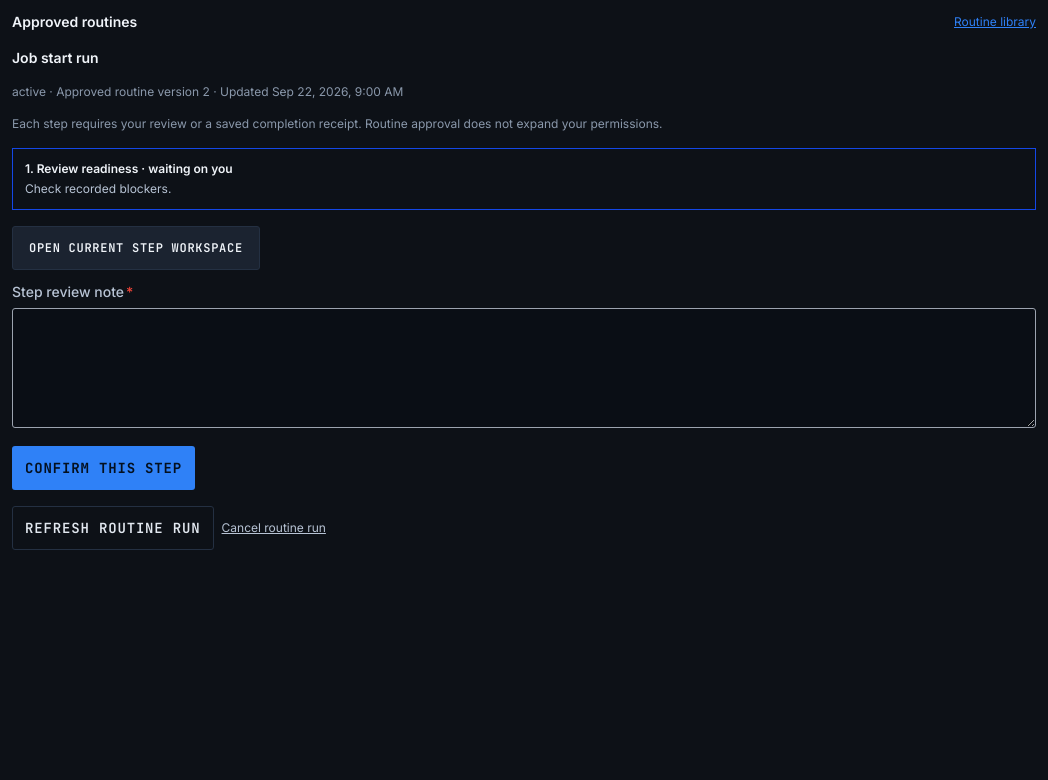
Test: blocks stale version writes until refreshing the saved run
Check: the heading "Job start run" is shown, box [12, 49, 99, 66]
Type "Reviewed source." into the text box labelled "Step review note*".
click(524, 368); type("Reviewed source.")  # box [12, 308, 1036, 428]
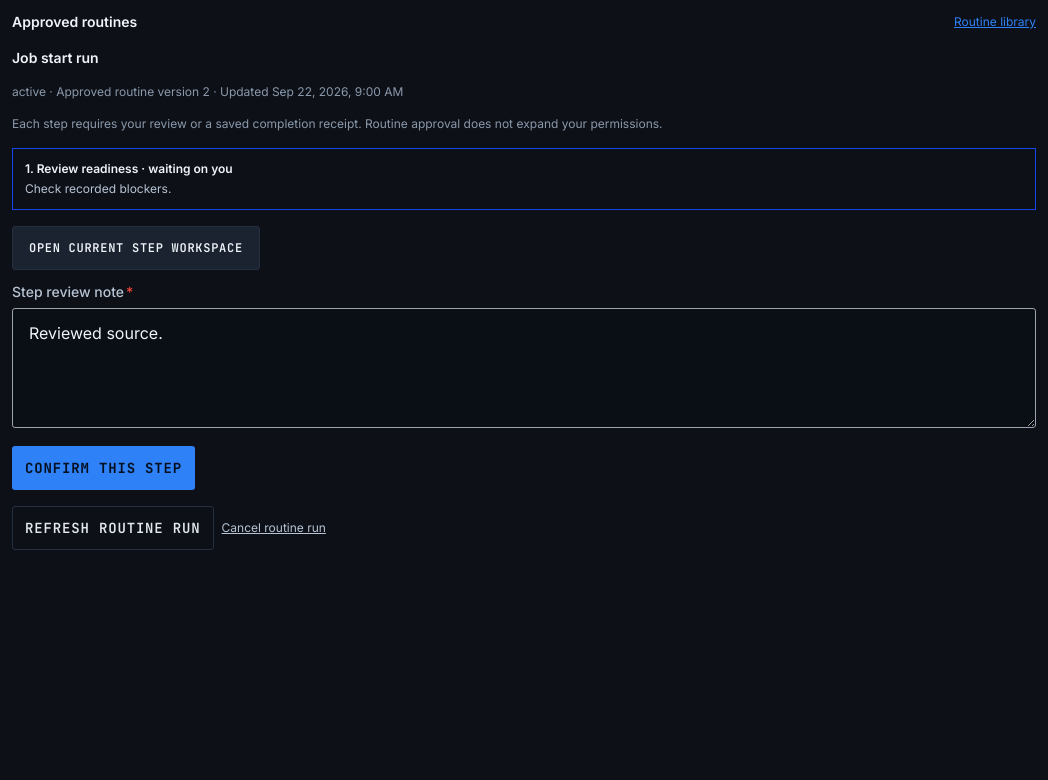
Click the button "Confirm this step".
click(104, 468)  # box [12, 446, 195, 490]
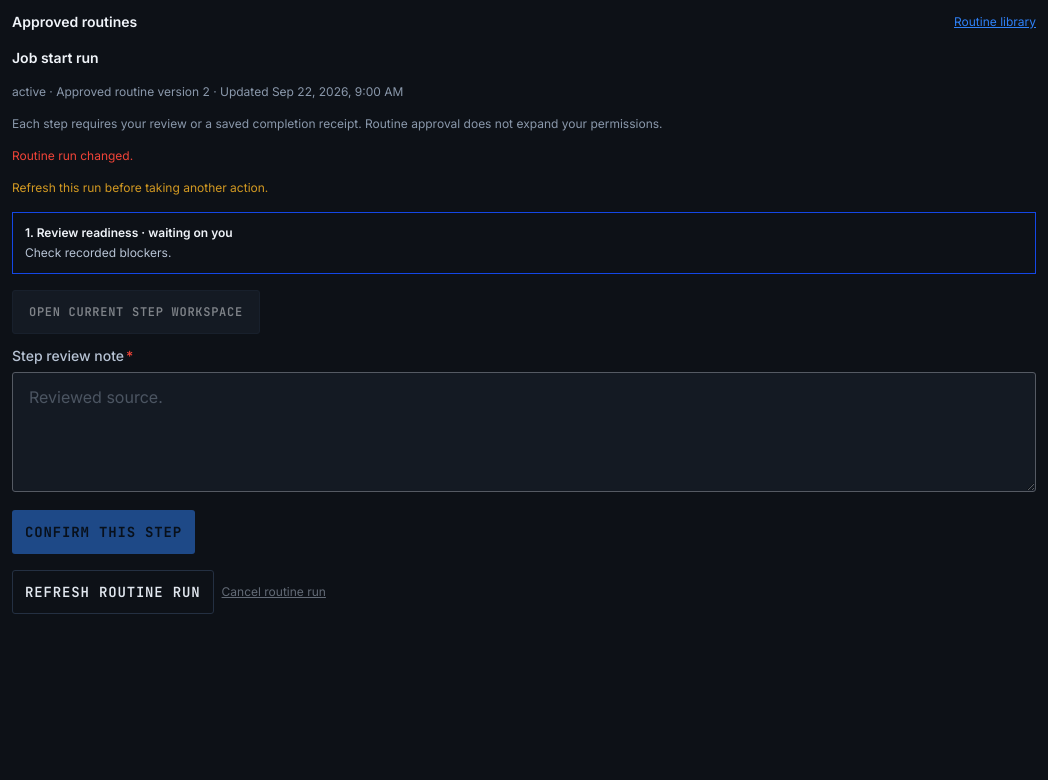
Check: the text "Routine run changed." is shown, box [12, 148, 133, 163]
Check: the button "Confirm this step" is disabled, box [12, 510, 195, 554]
Click the button "Refresh routine run".
click(113, 592)  # box [12, 570, 214, 614]
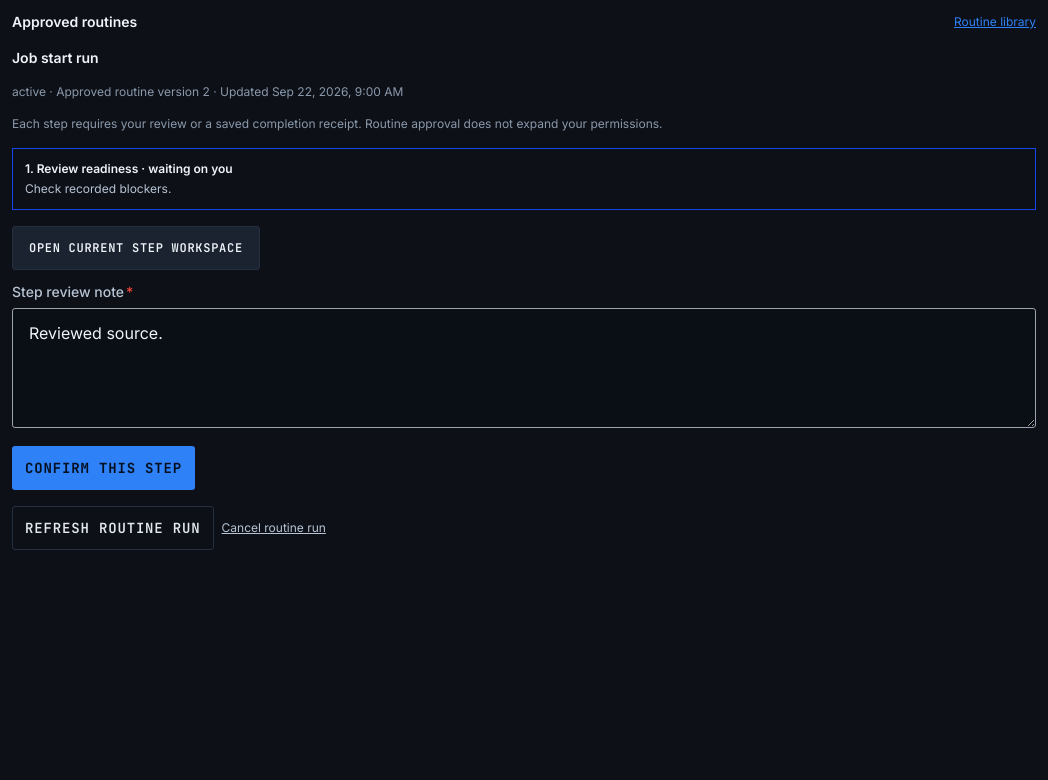
Check: the button "Confirm this step" is enabled, box [12, 446, 195, 490]
